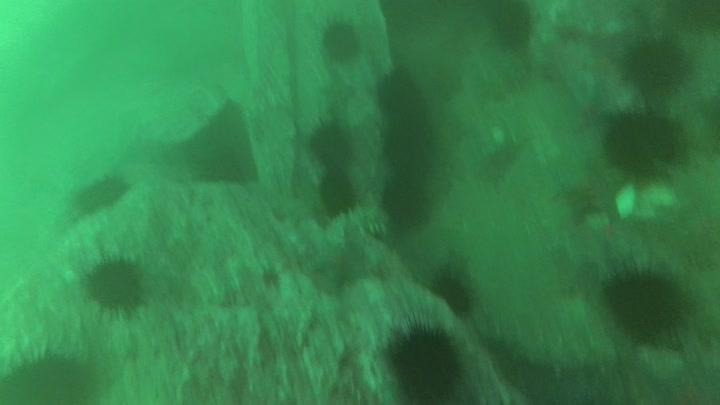urchin: (376, 329, 475, 405), (1, 348, 108, 405), (608, 114, 690, 183), (605, 273, 688, 341), (631, 33, 690, 94), (78, 258, 150, 305), (487, 3, 535, 52), (390, 181, 437, 230), (73, 175, 133, 213), (390, 120, 438, 167), (382, 64, 429, 111), (427, 267, 473, 313), (318, 175, 362, 214), (311, 125, 353, 164), (325, 24, 360, 68)
